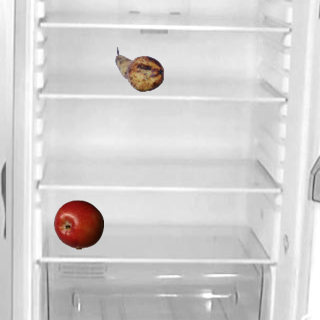Apple Braeburn: (53, 199, 103, 249)
Pear Abate: (114, 44, 164, 94)
